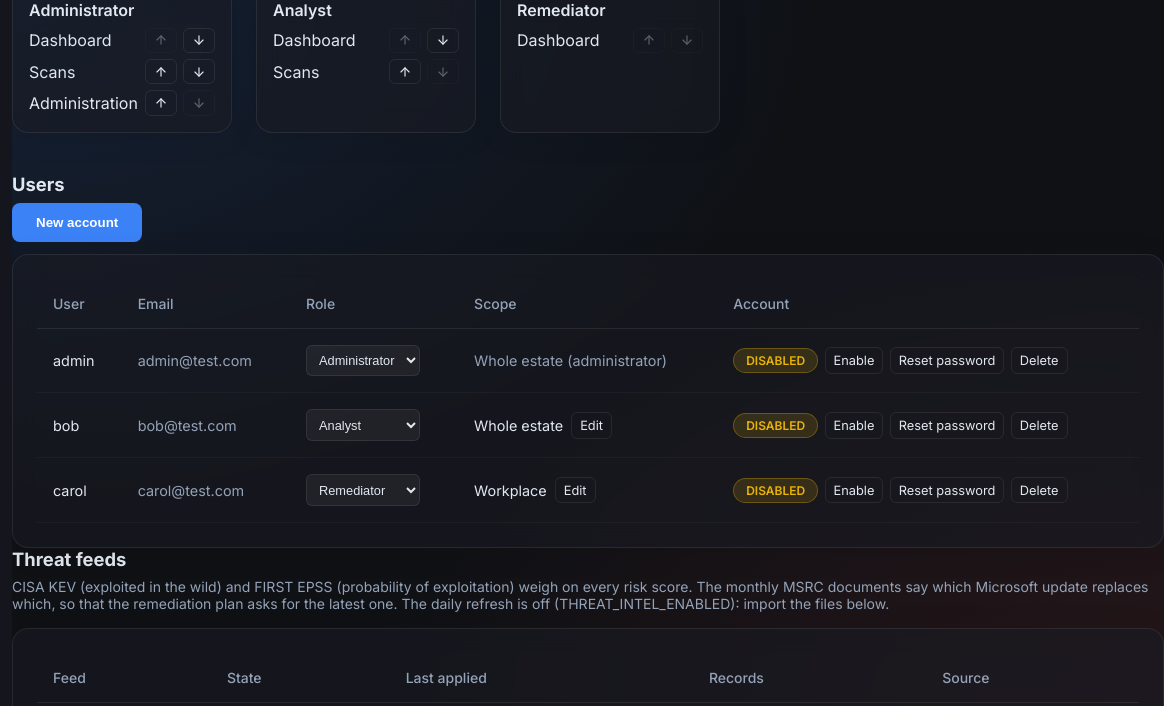
Scenario: AdminPanel › shows why a role change was refused
(page scrolled)
Select "Analyst" in the dropdown named "Role of admin". click: coordinates (363, 360)
box: x1=306 y1=345 x2=420 y2=376
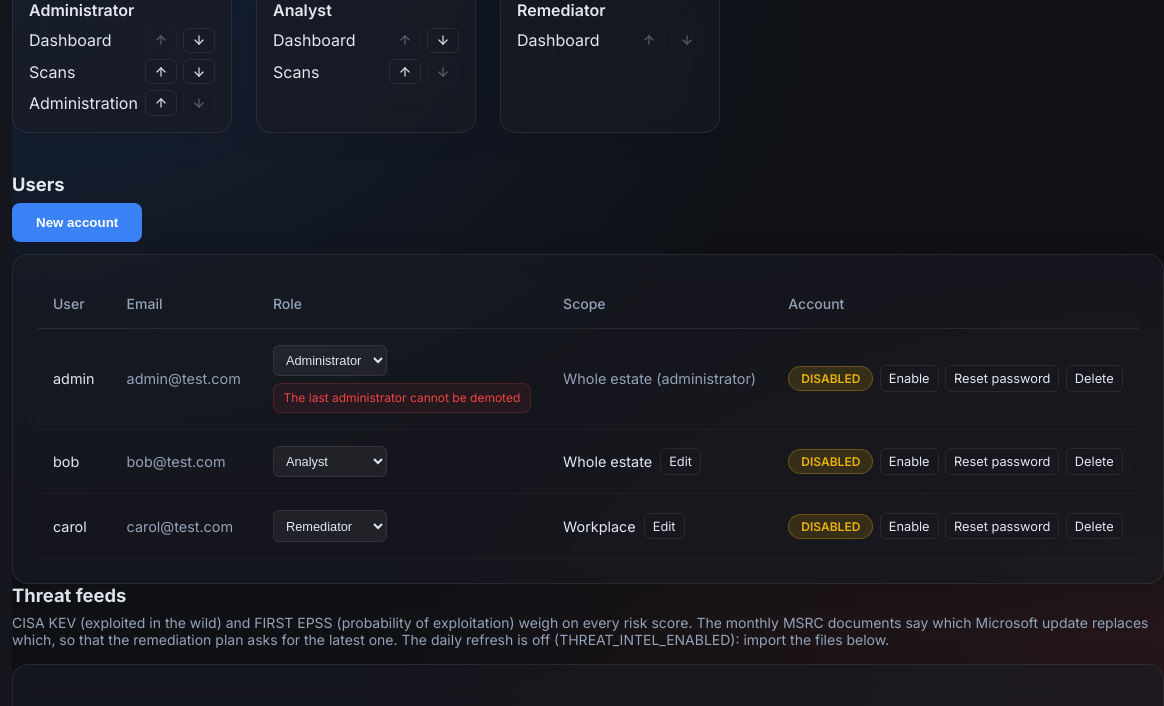
Now the text "The last administrator cannot be demoted" is shown, box x1=273 y1=383 x2=531 y2=412
